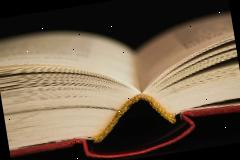paper: (0, 1, 240, 157)
